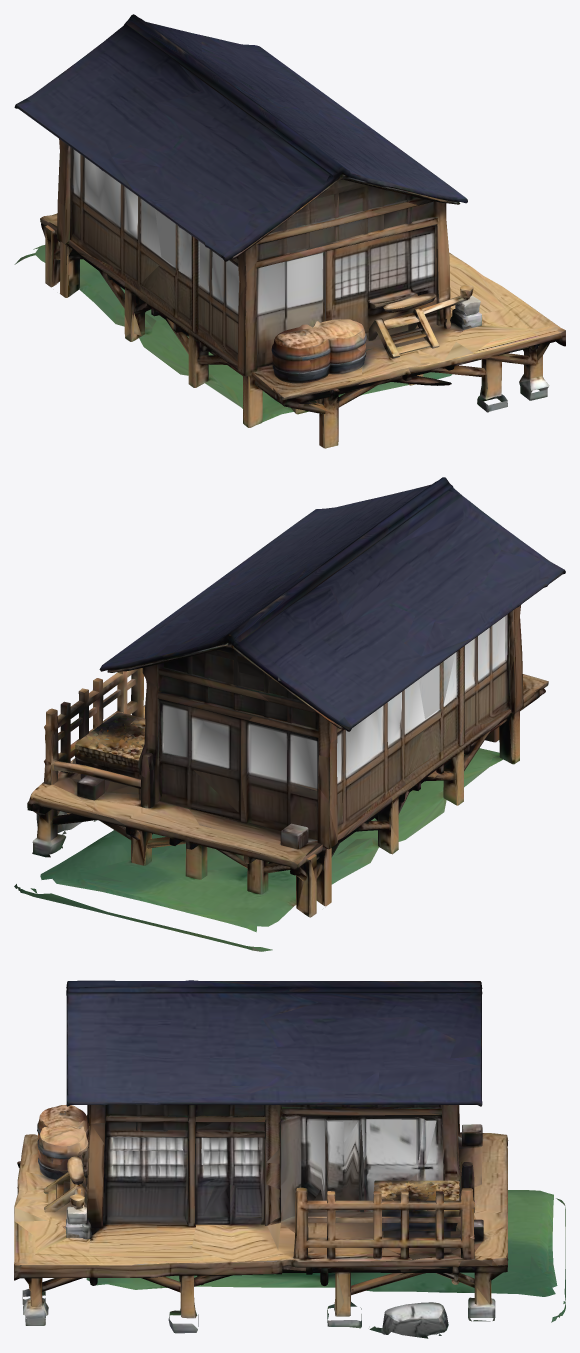
The model's file is bld_ranch.glb.
The picture shows the model from 3 angles, top to bottom: view 1: azimuth 30°, elevation 25°; view 2: azimuth 150°, elevation 25°; view 3: azimuth 270°, elevation 25°; orthographic projection. The views are drawn at different scales.
Parts seen in each view (by area): view 1: node_0; view 2: node_0; view 3: node_0.
Part boxes in pixels (left/top/right/bottom): node_0: left=14, top=14, right=565, bottom=448; node_0: left=14, top=477, right=565, bottom=951; node_0: left=14, top=980, right=565, bottom=1338.
Size of the model in its own units: 6.75 by 5.16 by 9.95.
1 material, 1 textured.
